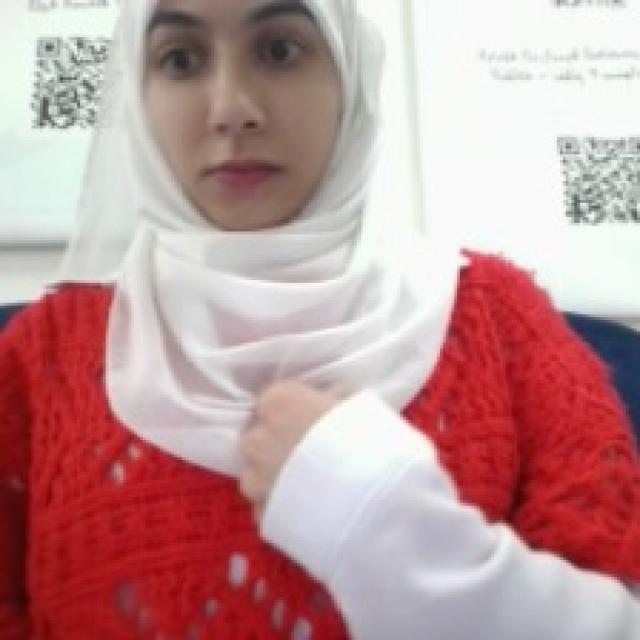me: (229, 371, 358, 513)
